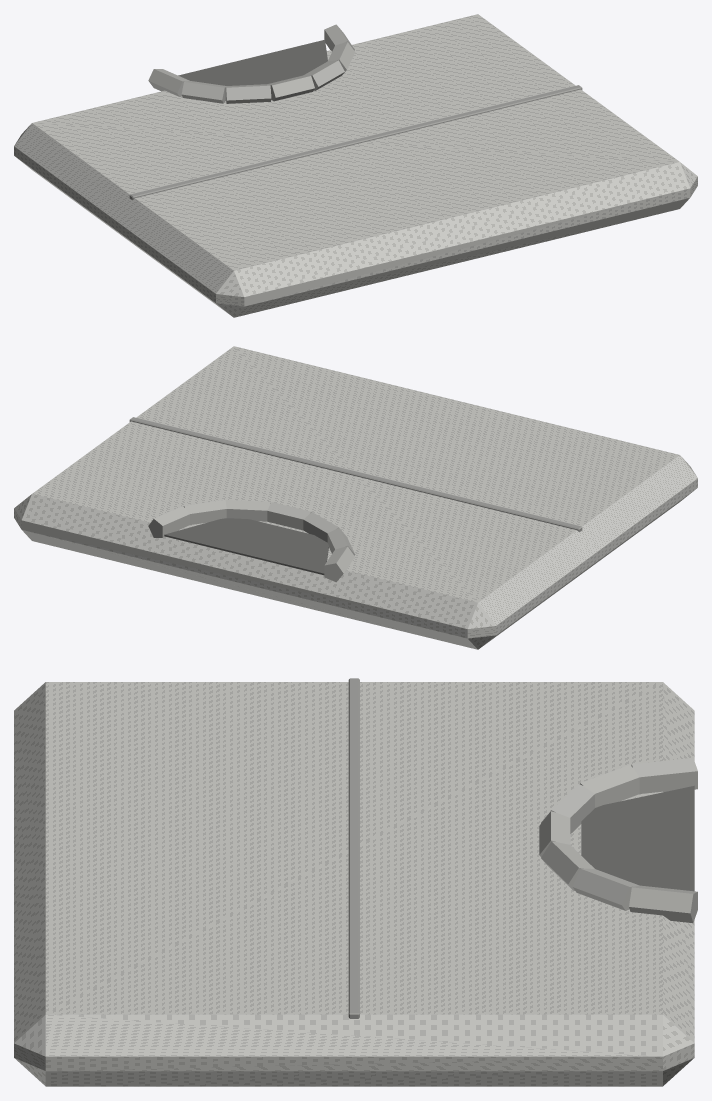
The model's file is long_undertop.glb.
3 renders of one model, top to bottom at view 1: azimuth 30°, elevation 25°; view 2: azimuth 150°, elevation 25°; view 3: azimuth 270°, elevation 25°, orthographic. The views are drawn at different scales.
Parts seen in each view (by area): view 1: block_body, block_neckhole, block_fold, block_neck4, block_neck3, block_neck5, block_neck6, block_neck2; view 2: block_body, block_neckhole, block_fold, block_neck2, block_neck0, block_neck3, block_neck1, block_neck6, block_neck4; view 3: block_body, block_neckhole, block_fold, block_neck0, block_neck6, block_neck1, block_neck5, block_neck2, block_neck4, block_neck3.
Part boxes in pixels (x1,y1,x2,y2): block_body: (14,14,697,317); block_neckhole: (178,39,327,85); block_fold: (129,85,582,200); block_neck4: (225,84,271,103); block_neck3: (267,75,314,101); block_neck5: (181,81,226,103); block_neck6: (148,69,189,96); block_neck2: (304,60,344,90); block_body: (14,346,697,649); block_neckhole: (164,518,328,575); block_fold: (129,417,582,532); block_neck2: (226,500,270,521); block_neck0: (148,506,189,537); block_neck3: (267,502,311,530); block_neck1: (183,500,226,524); block_neck6: (324,546,354,582); block_neck4: (303,512,338,542); block_body: (14,682,694,1086); block_neckhole: (581,785,694,891); block_fold: (348,678,359,1018); block_neck0: (629,885,697,922); block_neck6: (631,758,697,793); block_neck1: (572,868,639,910); block_neck5: (580,765,639,807); block_neck2: (541,841,594,890); block_neck4: (541,784,594,833); block_neck3: (539,811,570,856).
Size of the model in its own units: 0.3 by 0.0367 by 0.2412.
Materials: 1 (1 with a texture image).
